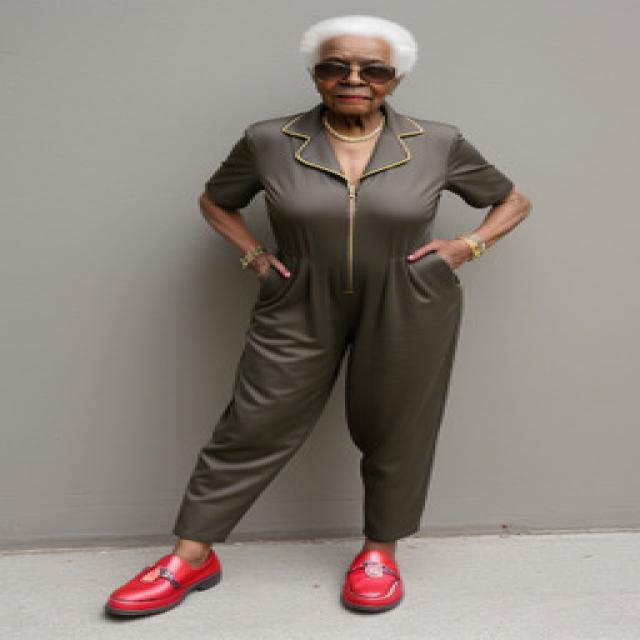Ai human 2: (103, 9, 545, 640)
